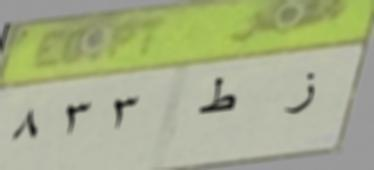3: (56, 100, 94, 140), (110, 92, 141, 136)
8: (6, 104, 42, 146)
Taa: (194, 73, 236, 123)
zay: (278, 68, 319, 123)
